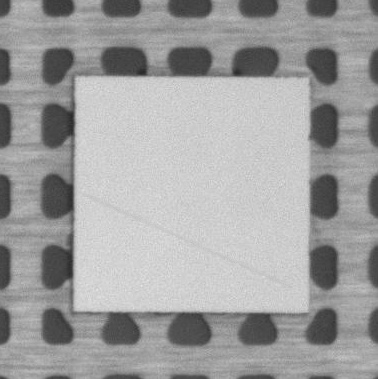DIE_CRACK: (83, 195, 290, 288)
